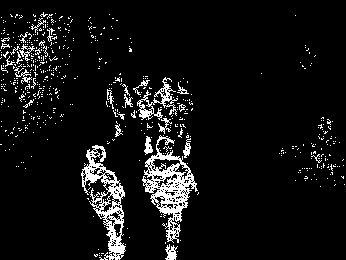person: (142, 136, 200, 260), (78, 144, 127, 260), (132, 73, 157, 157), (173, 75, 196, 160), (104, 72, 132, 140), (154, 74, 178, 136)
